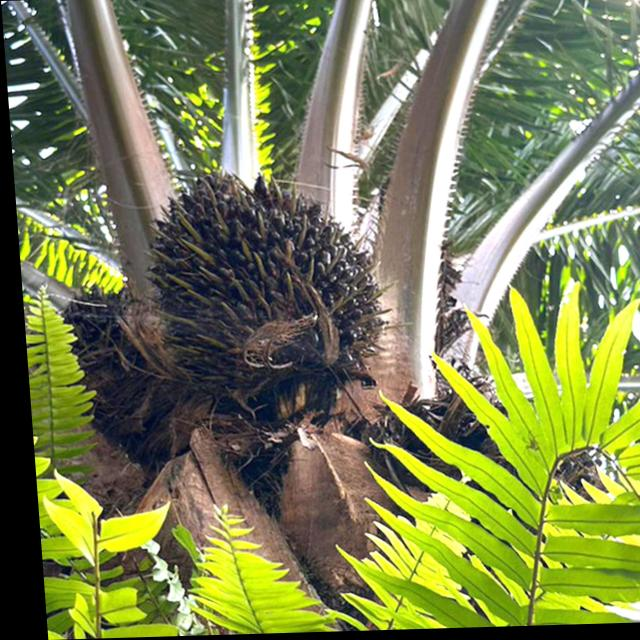almost: (127, 157, 419, 406)
